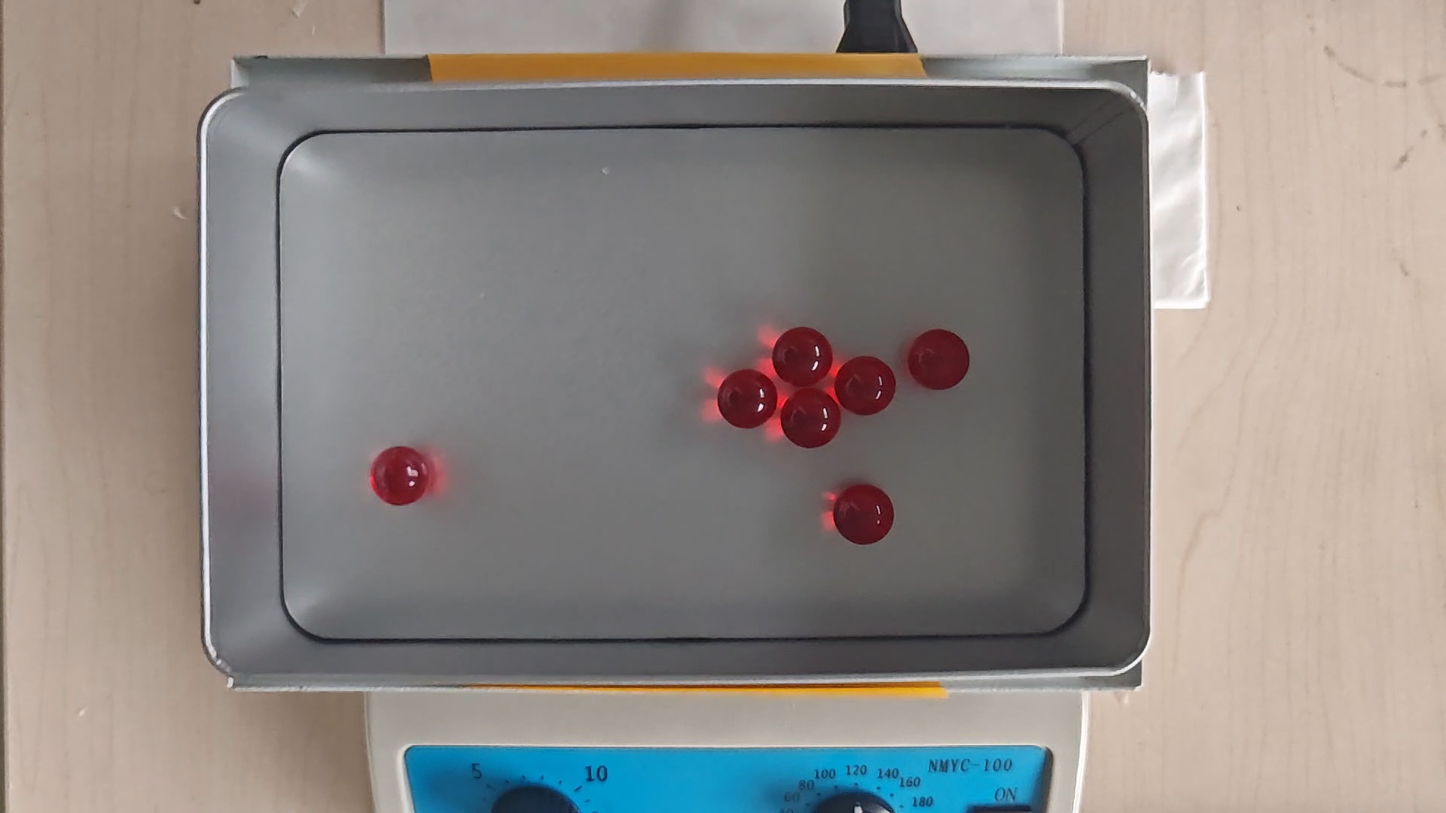ball: (908, 327, 971, 392), (833, 484, 895, 549), (368, 444, 430, 507), (779, 388, 842, 449), (717, 368, 778, 430), (771, 327, 833, 388), (835, 356, 896, 417)
container: (277, 126, 1088, 636)
